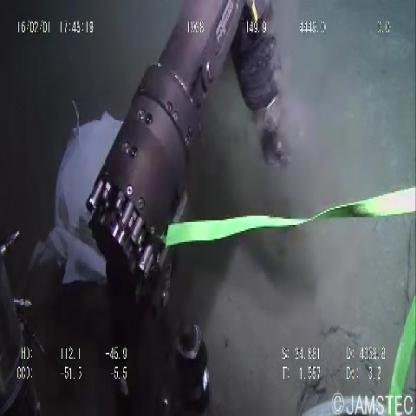Rov: (83, 1, 300, 373)
Rác: (43, 107, 134, 292)
